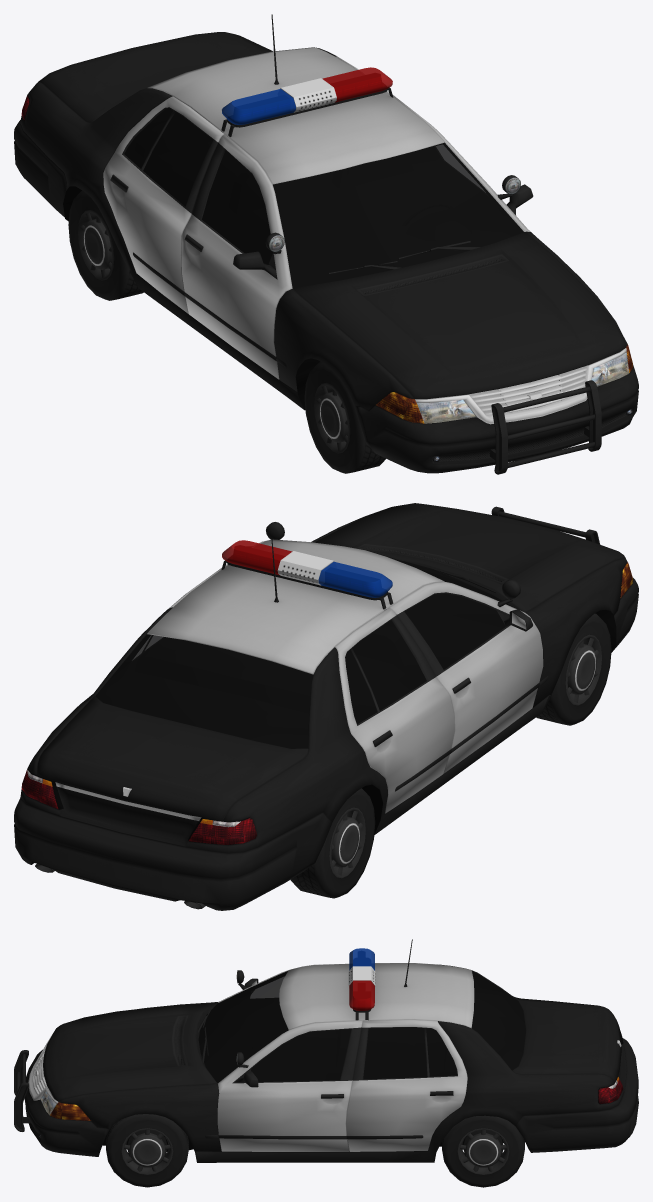
File: veicolo_auto_pattuglia.glb
3 views of the same model, one above another, from view 1: azimuth 30°, elevation 25°; view 2: azimuth 150°, elevation 25°; view 3: azimuth 270°, elevation 25° (orthographic). The views are drawn at different scales.
Parts seen in each view (by area): view 1: sb_modello; view 2: sb_modello; view 3: sb_modello.
Part boxes in pixels (x1,y1,x2,y2): sb_modello: (14, 14, 638, 474); sb_modello: (14, 503, 638, 910); sb_modello: (14, 939, 638, 1187).
Size of the model in its own units: 2 by 1.88 by 5.17.
4 materials, 4 textured.
